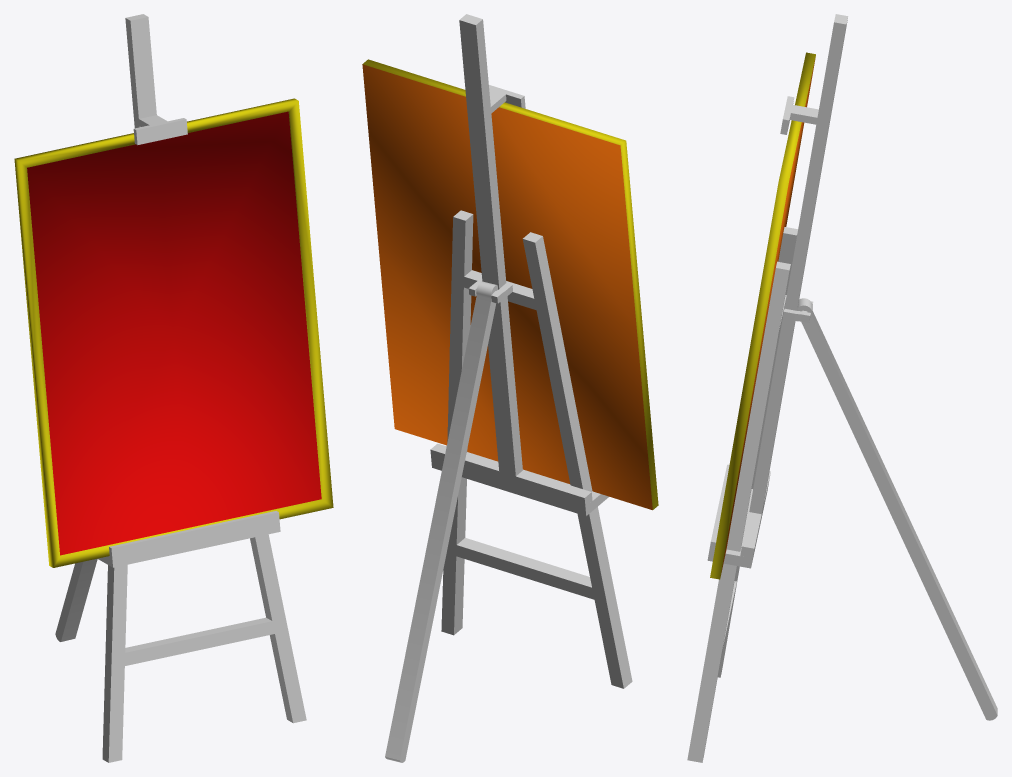
3 renders of one model, left to right at view 1: azimuth 30°, elevation 25°; view 2: azimuth 150°, elevation 25°; view 3: azimuth 270°, elevation 25°, orthographic. The views are drawn at different scales.
Parts seen in each view (by area): view 1: main, legs, back; view 2: main, legs, back; view 3: legs, back, main.
Boxes of the visible parts, x1,y1,x2,y2 form: main: (14,98,333,567); legs: (97,14,306,762); back: (55,559,97,641); main: (362,59,658,510); legs: (430,14,632,688); back: (385,281,497,762); legs: (687,14,848,762); back: (797,298,997,720); main: (710,52,815,579).
Size of the model in its own units: 0.8306 by 2 by 0.8039.
